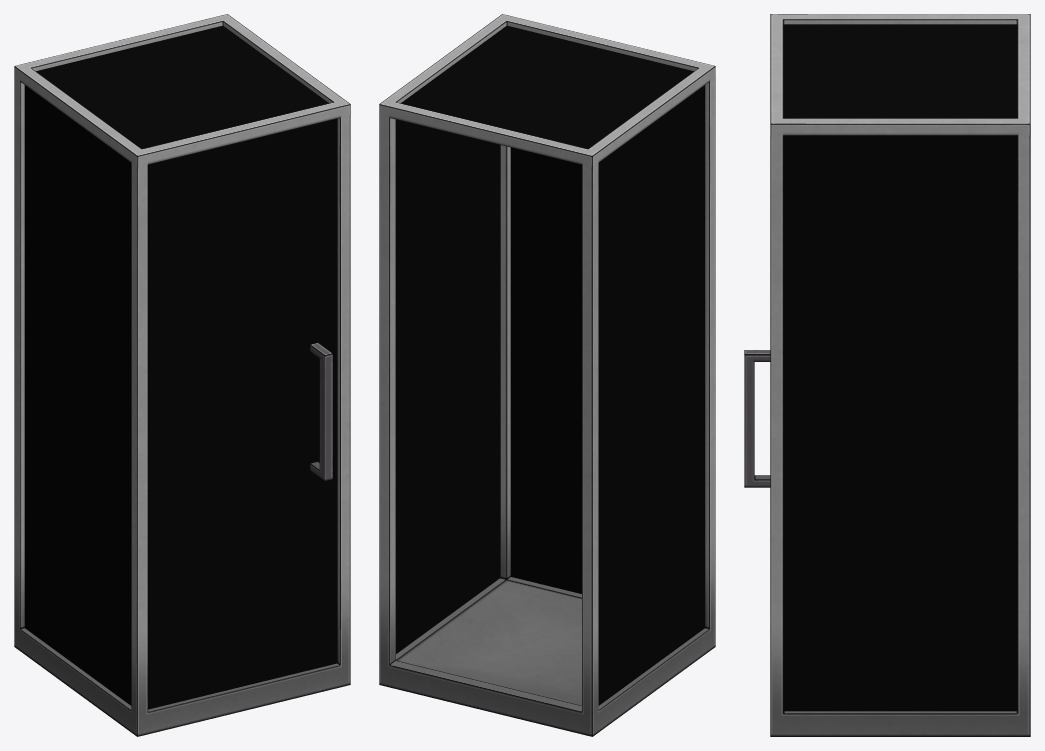
The model's file is ShowerBox.fbx.
3 renders of one model, left to right at view 1: azimuth 30°, elevation 25°; view 2: azimuth 150°, elevation 25°; view 3: azimuth 270°, elevation 25°, orthographic. The views are drawn at different scales.
Parts seen in each view (by area): view 1: TheShowerBoxWindows, TheShowerBox; view 2: TheShowerBoxWindows, TheShowerBox; view 3: TheShowerBoxWindows, TheShowerBox.
Part boxes in pixels (box(x1,y1,x2,y2)): TheShowerBoxWindows: box(24, 25, 337, 709); TheShowerBox: box(14, 14, 350, 736); TheShowerBoxWindows: box(396, 25, 705, 705); TheShowerBox: box(379, 14, 715, 736); TheShowerBoxWindows: box(783, 24, 1017, 711); TheShowerBox: box(744, 14, 1030, 736).
Size of the model in its own units: 100 by 260 by 110.
